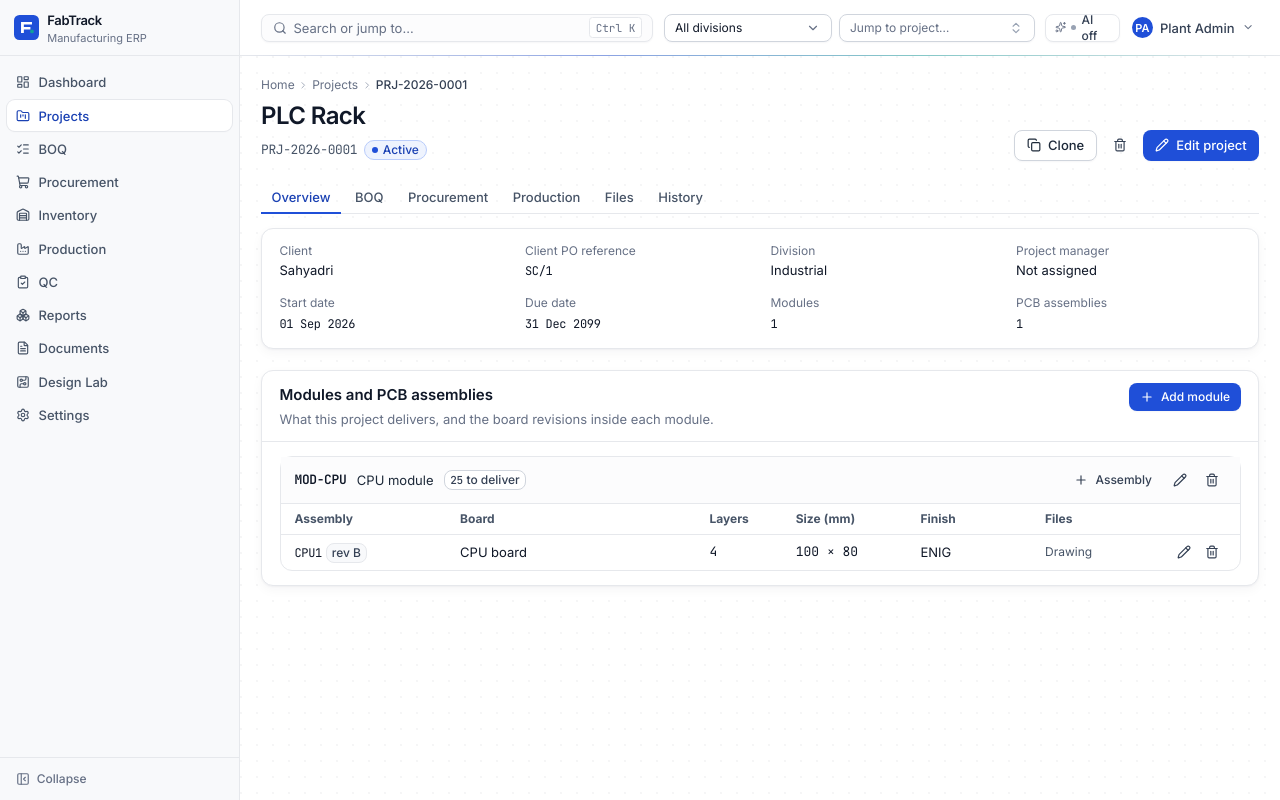
Test: Project page › shows details, structure, files and history tabs; unbuilt tabs stay hidden
Expected: the heading "PLC Rack" is shown, 261,101 -> 365,130
Expected: the text "CPU board" is shown, 453,534 -> 702,570
Click the tab "History": click(681, 198) 648,182 -> 714,214
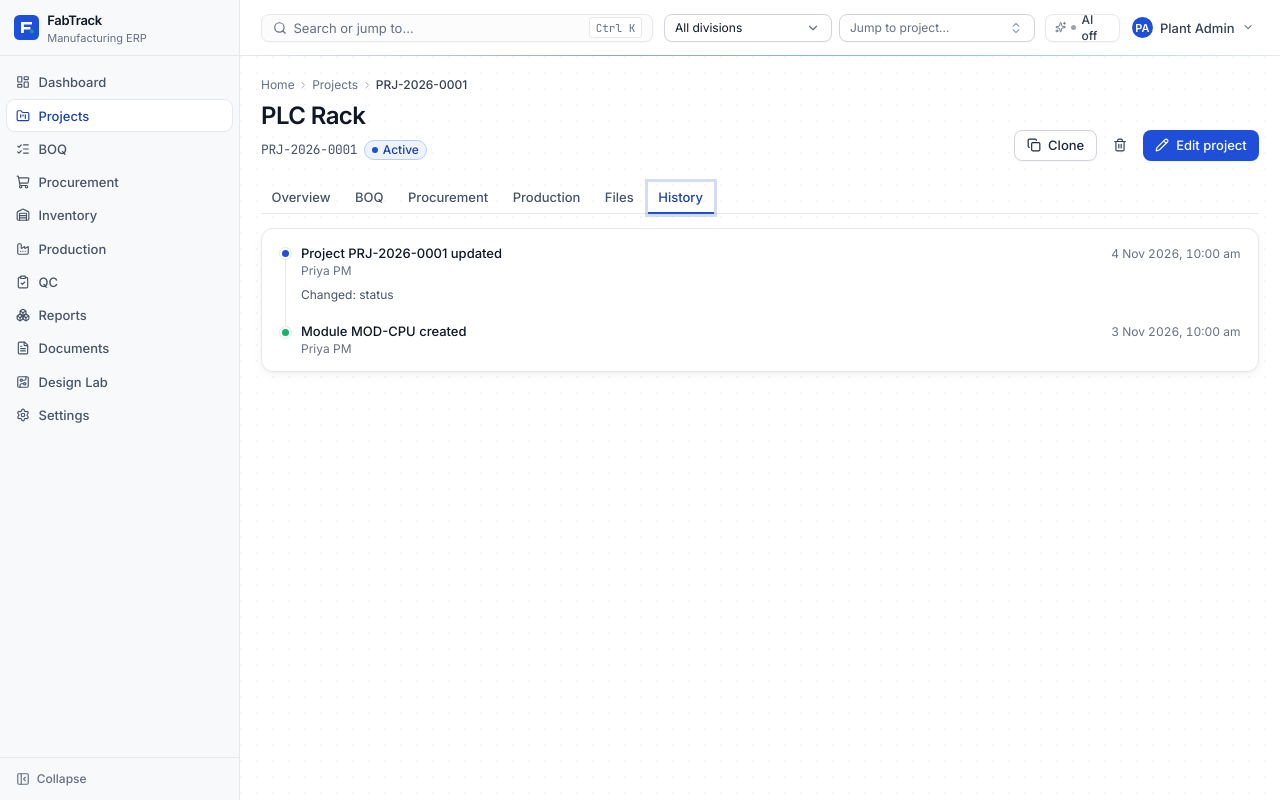
Expected: the text "Project PRJ-2026-0001 updated" is shown, 301,242 -> 502,262
Expected: the text "Changed: status" is shown, 301,287 -> 394,302
Expected: the text "Module MOD-CPU created" is shown, 301,321 -> 466,341
